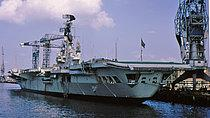MIL_Ship: (10, 38, 166, 100)
